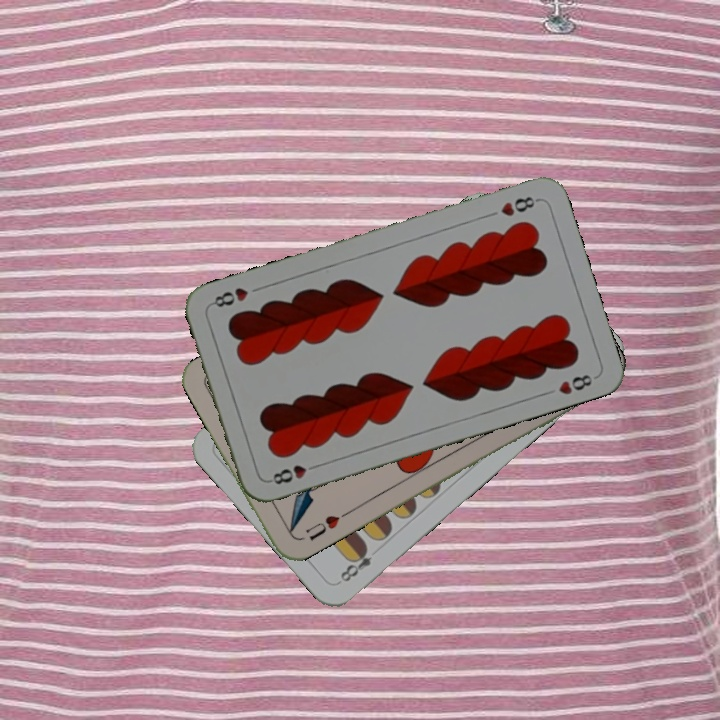E8: (334, 541, 375, 586)
H8: (265, 459, 322, 487), (496, 192, 542, 219)
HU: (301, 508, 350, 543)
